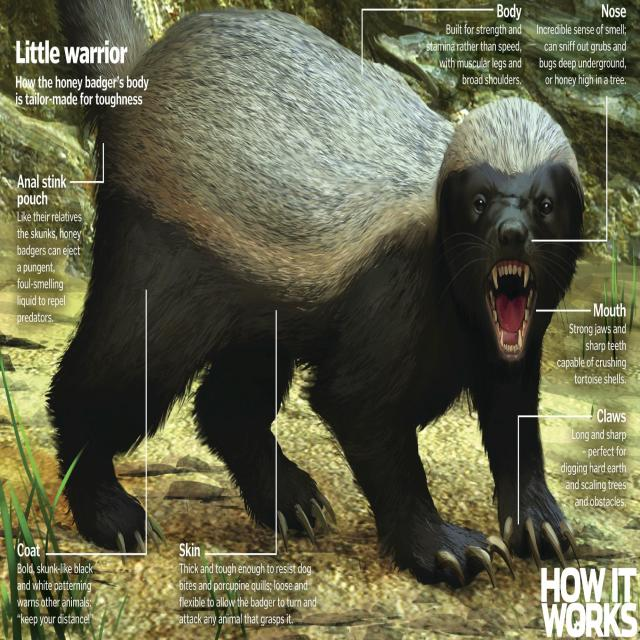Badger: (48, 10, 585, 592)
